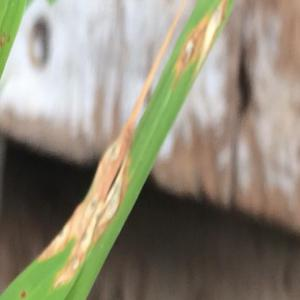Rice_Blast: (190, 2, 242, 54), (179, 34, 203, 65)
